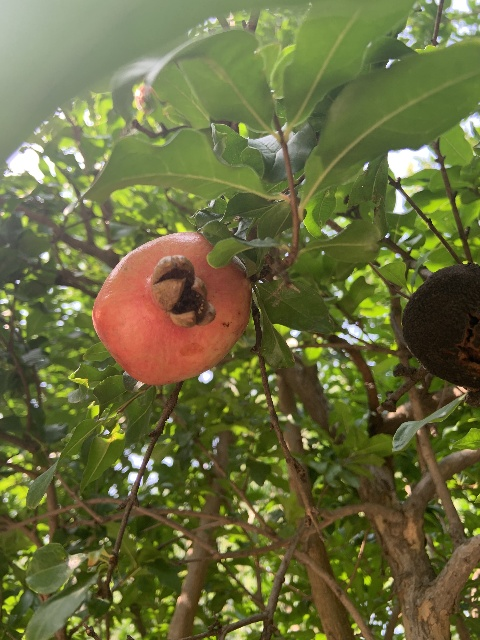ripe: (91, 232, 252, 386)
